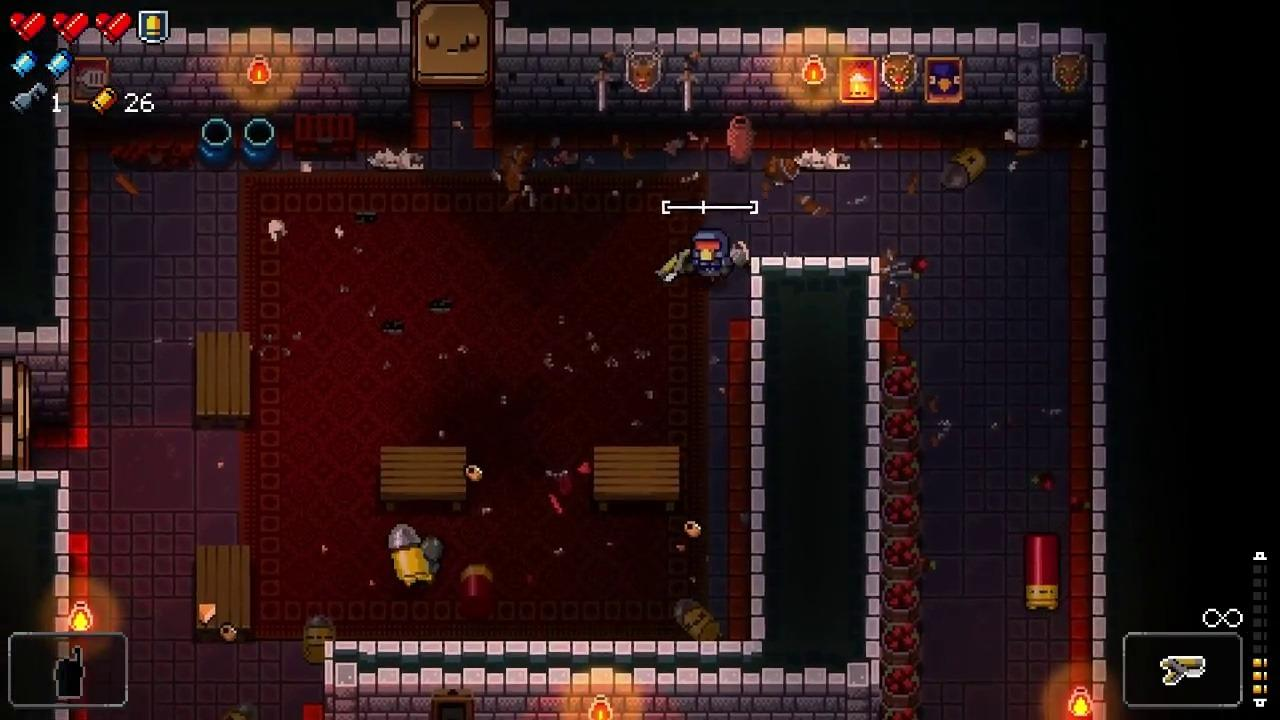bullet_kin: (388, 523, 435, 583), (673, 597, 722, 640), (303, 612, 337, 665)
dead_bullet_kin: (941, 146, 989, 188)
locked_door: (411, 0, 494, 92), (0, 354, 30, 471)
player: (691, 230, 731, 281)
red_shotgun_kin: (1023, 533, 1059, 612), (459, 562, 494, 618)
table: (381, 446, 466, 512), (593, 447, 679, 512), (193, 330, 250, 428), (196, 545, 250, 641)
